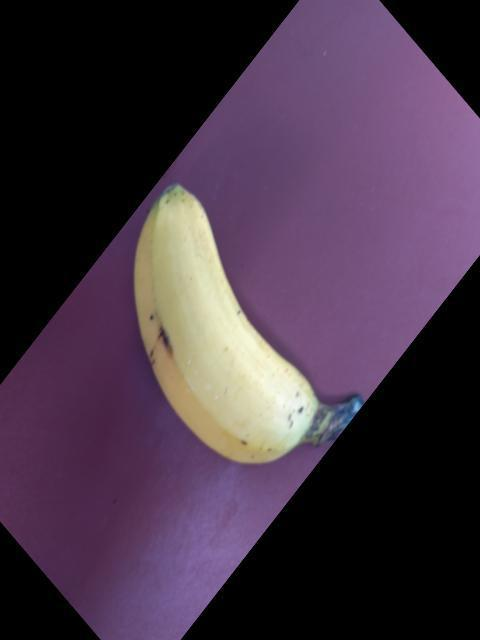freshripe: (117, 160, 343, 488)
